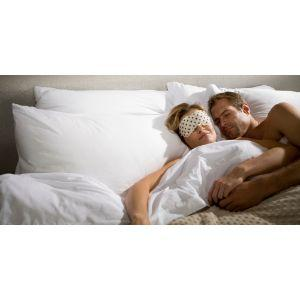sleep: (162, 99, 218, 175), (170, 106, 216, 144), (214, 101, 246, 136)
